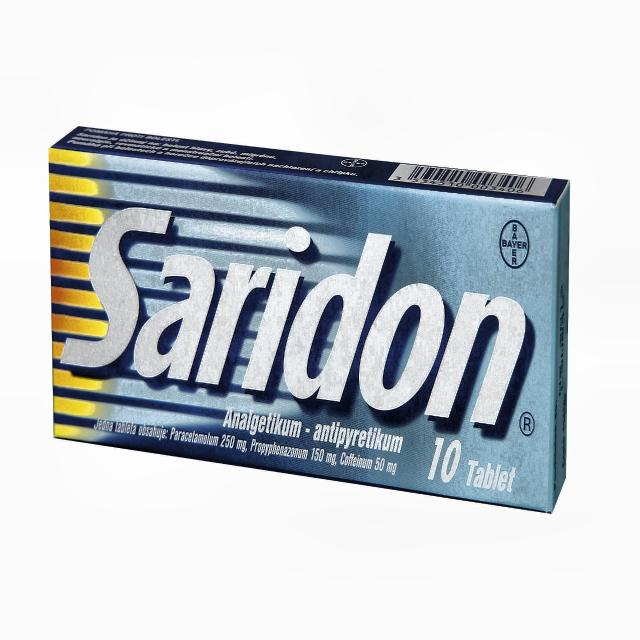Saridon: (56, 153, 548, 480)
